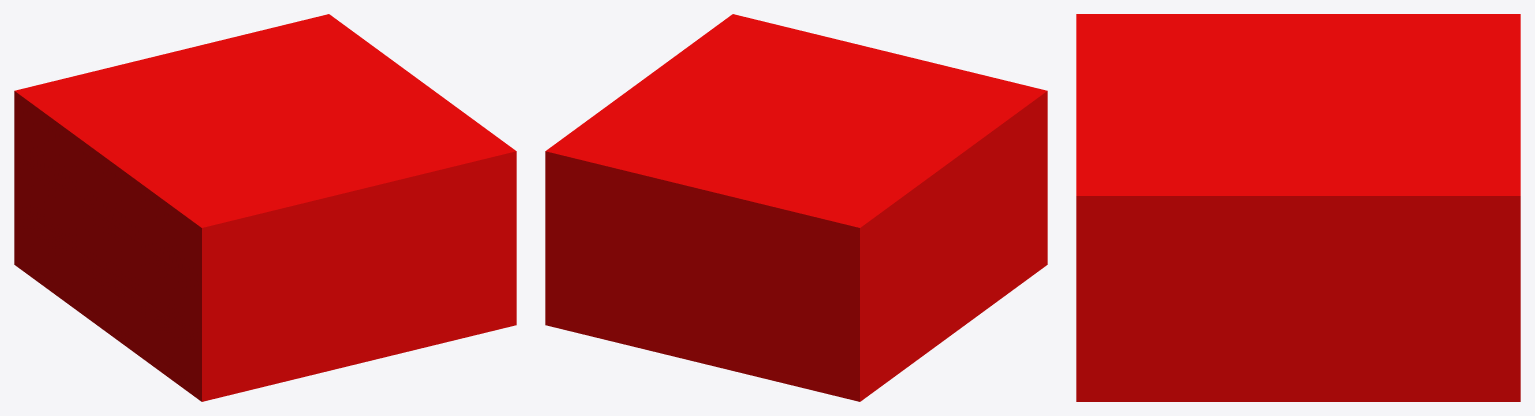
The model's file is vertexcolor_composite.DAE.
3 renders of one model, left to right at view 1: azimuth 30°, elevation 25°; view 2: azimuth 150°, elevation 25°; view 3: azimuth 270°, elevation 25°, orthographic. The views are drawn at different scales.
Visible parts, largest first — view 1: Box03; view 2: Box03; view 3: Box03.
Part boxes in pixels (bbox=[...]): Box03: bbox=[14, 14, 516, 401]; Box03: bbox=[545, 14, 1047, 401]; Box03: bbox=[1076, 14, 1520, 401].
Bounding box in the file's own units: 259 × 267 × 137.
